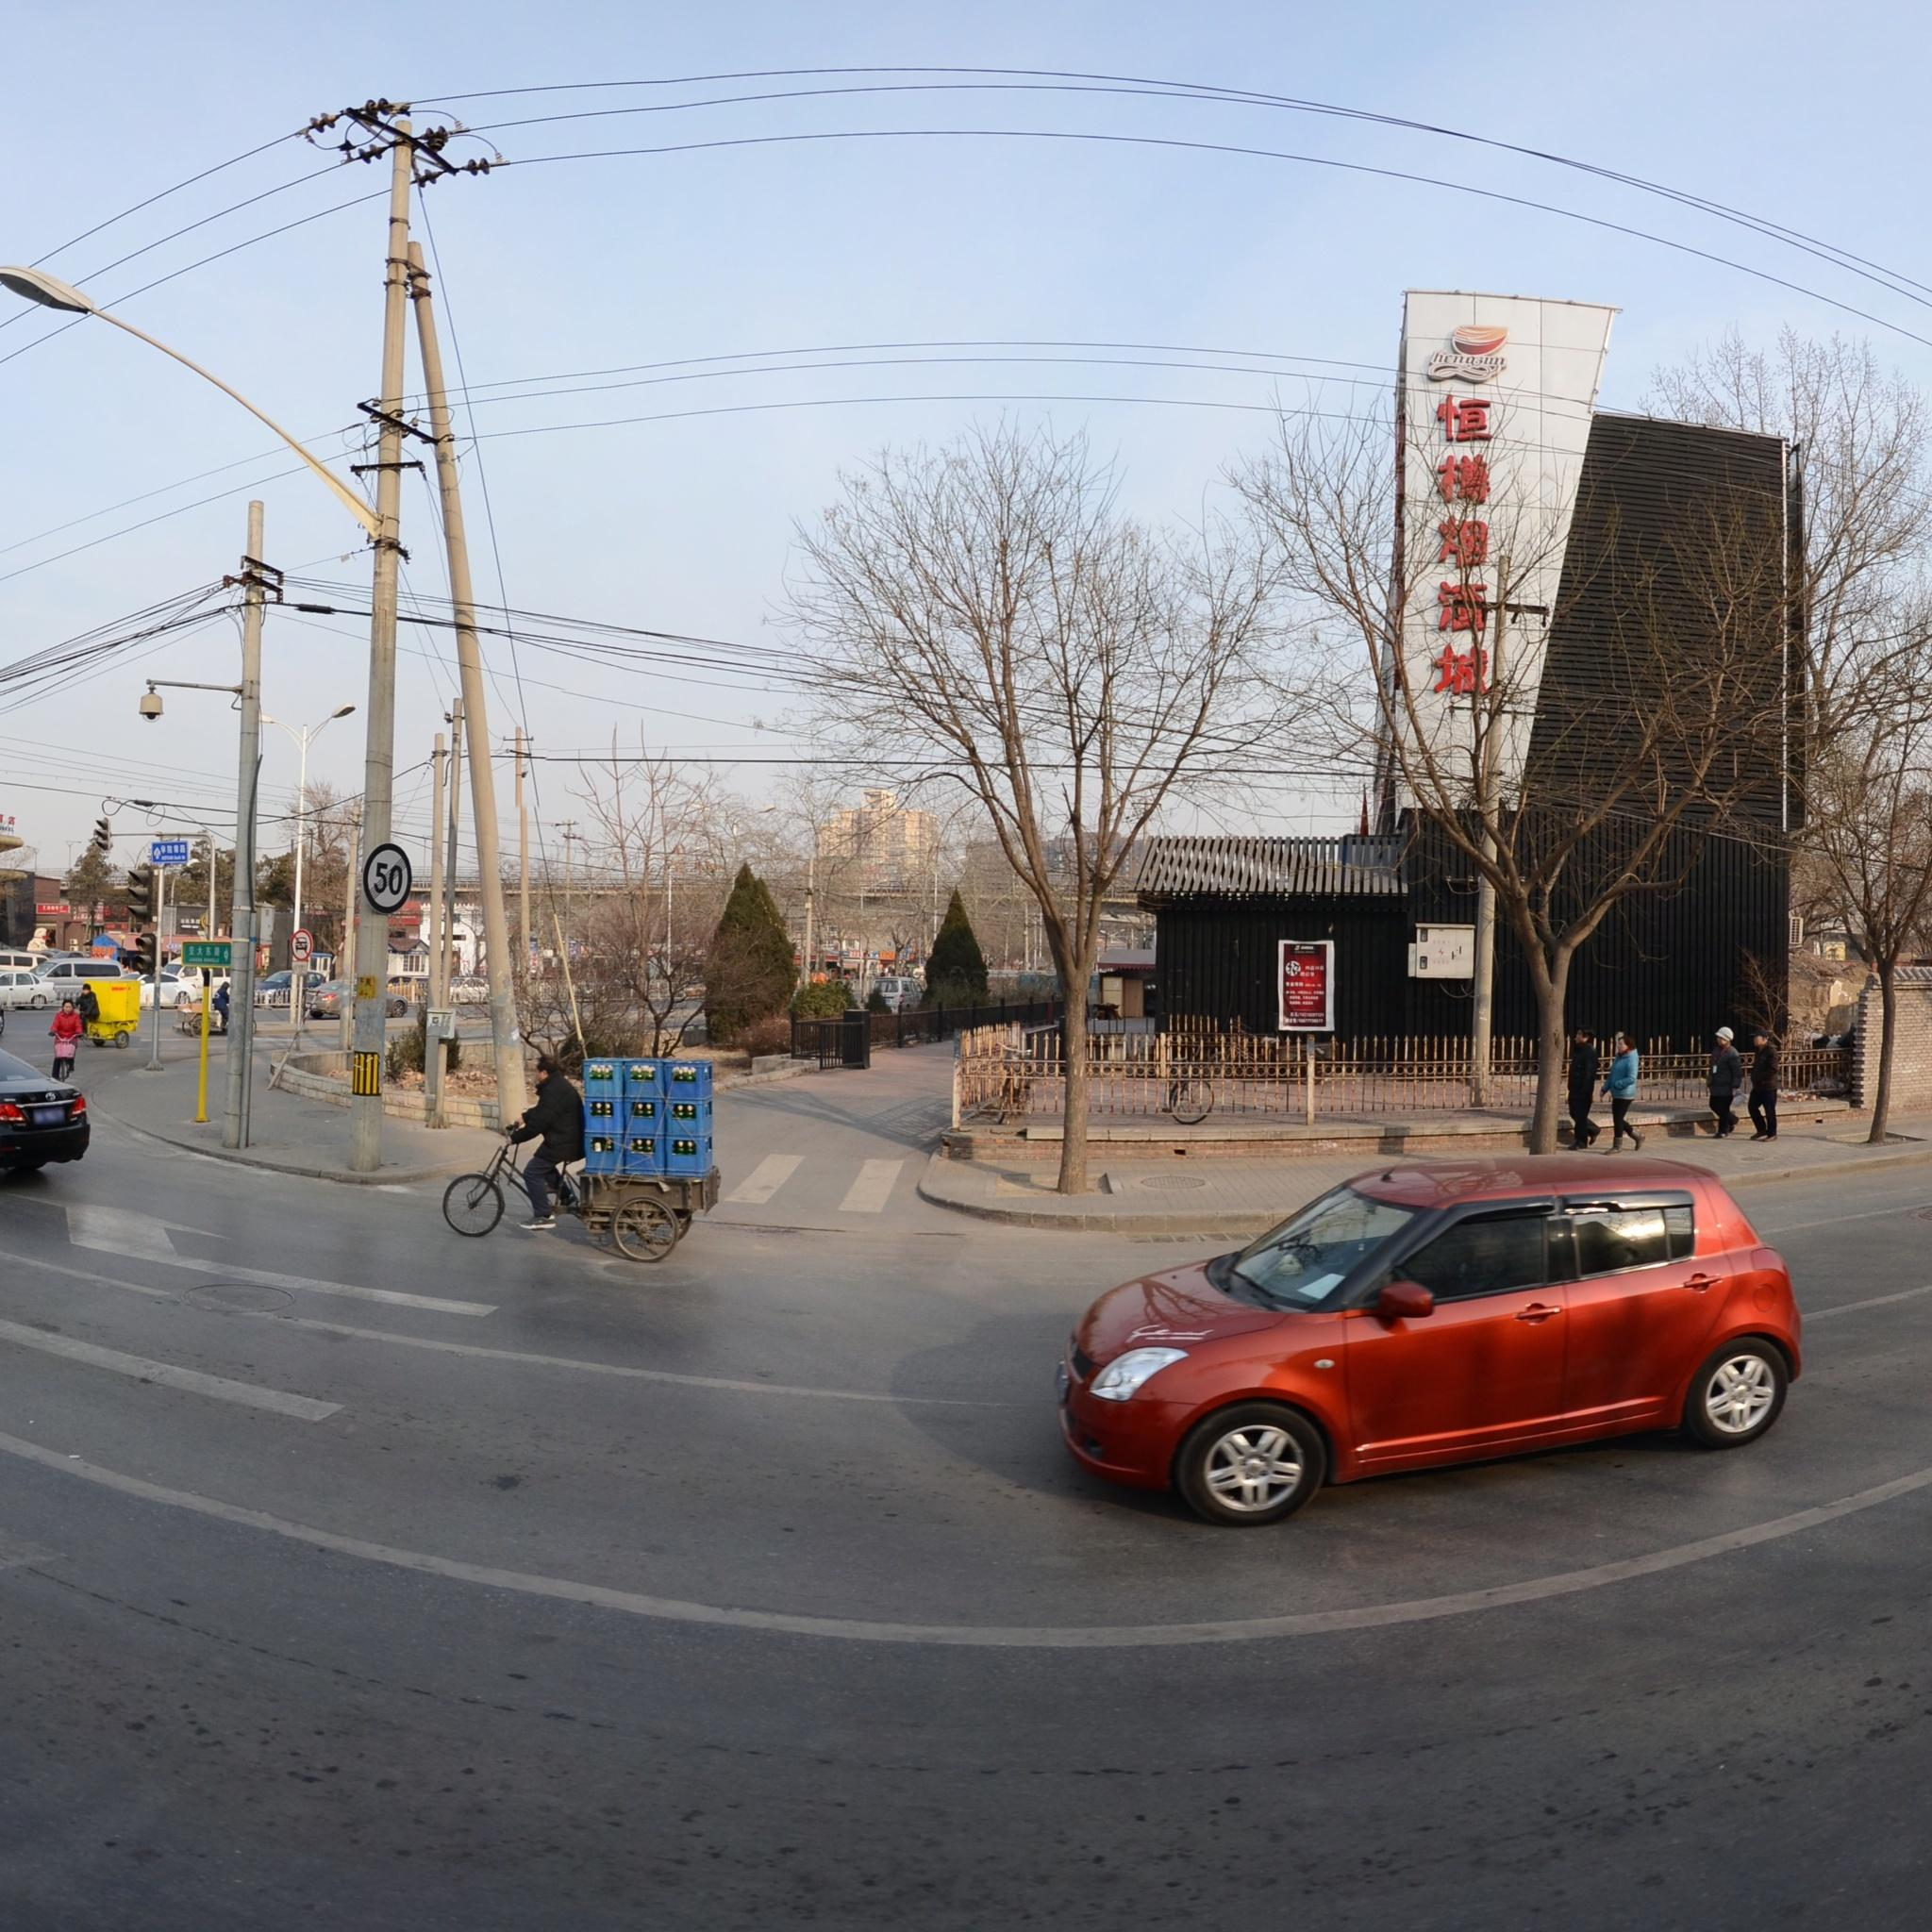p10: (292, 931, 311, 959)
